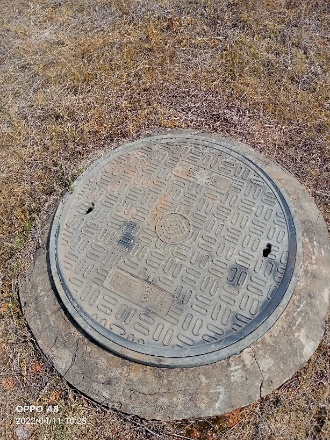good: (47, 135, 304, 368)
